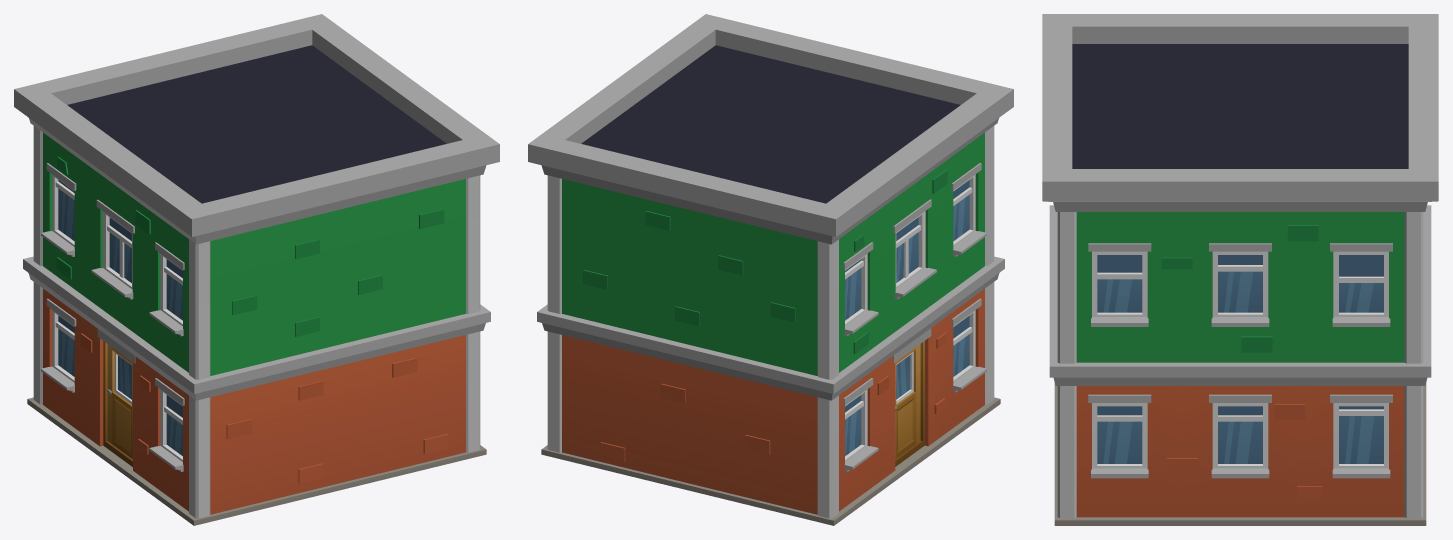
Rendered from Building_2_3_F.fbx.
3 renders of one model, left to right at view 1: azimuth 30°, elevation 25°; view 2: azimuth 150°, elevation 25°; view 3: azimuth 270°, elevation 25°, orthographic. The views are drawn at different scales.
Visible parts, largest first — view 1: Building_2_3_F; view 2: Building_2_3_F; view 3: Building_2_3_F.
Part boxes in pixels (x1=…): Building_2_3_F: x1=14, y1=14, x2=499, y2=525; Building_2_3_F: x1=528, y1=14, x2=1013, y2=525; Building_2_3_F: x1=1042, y1=14, x2=1438, y2=525.
Bounding box in the file's own units: 620 × 602 × 620.
